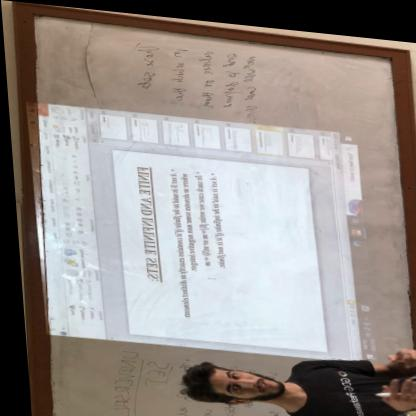Handwritten text: (99, 344, 136, 416), (128, 35, 161, 93), (161, 39, 189, 103), (192, 40, 218, 107), (218, 44, 241, 106), (135, 354, 165, 390)
Lecturer: (166, 322, 416, 416)
Whiteboard: (24, 11, 416, 416)
